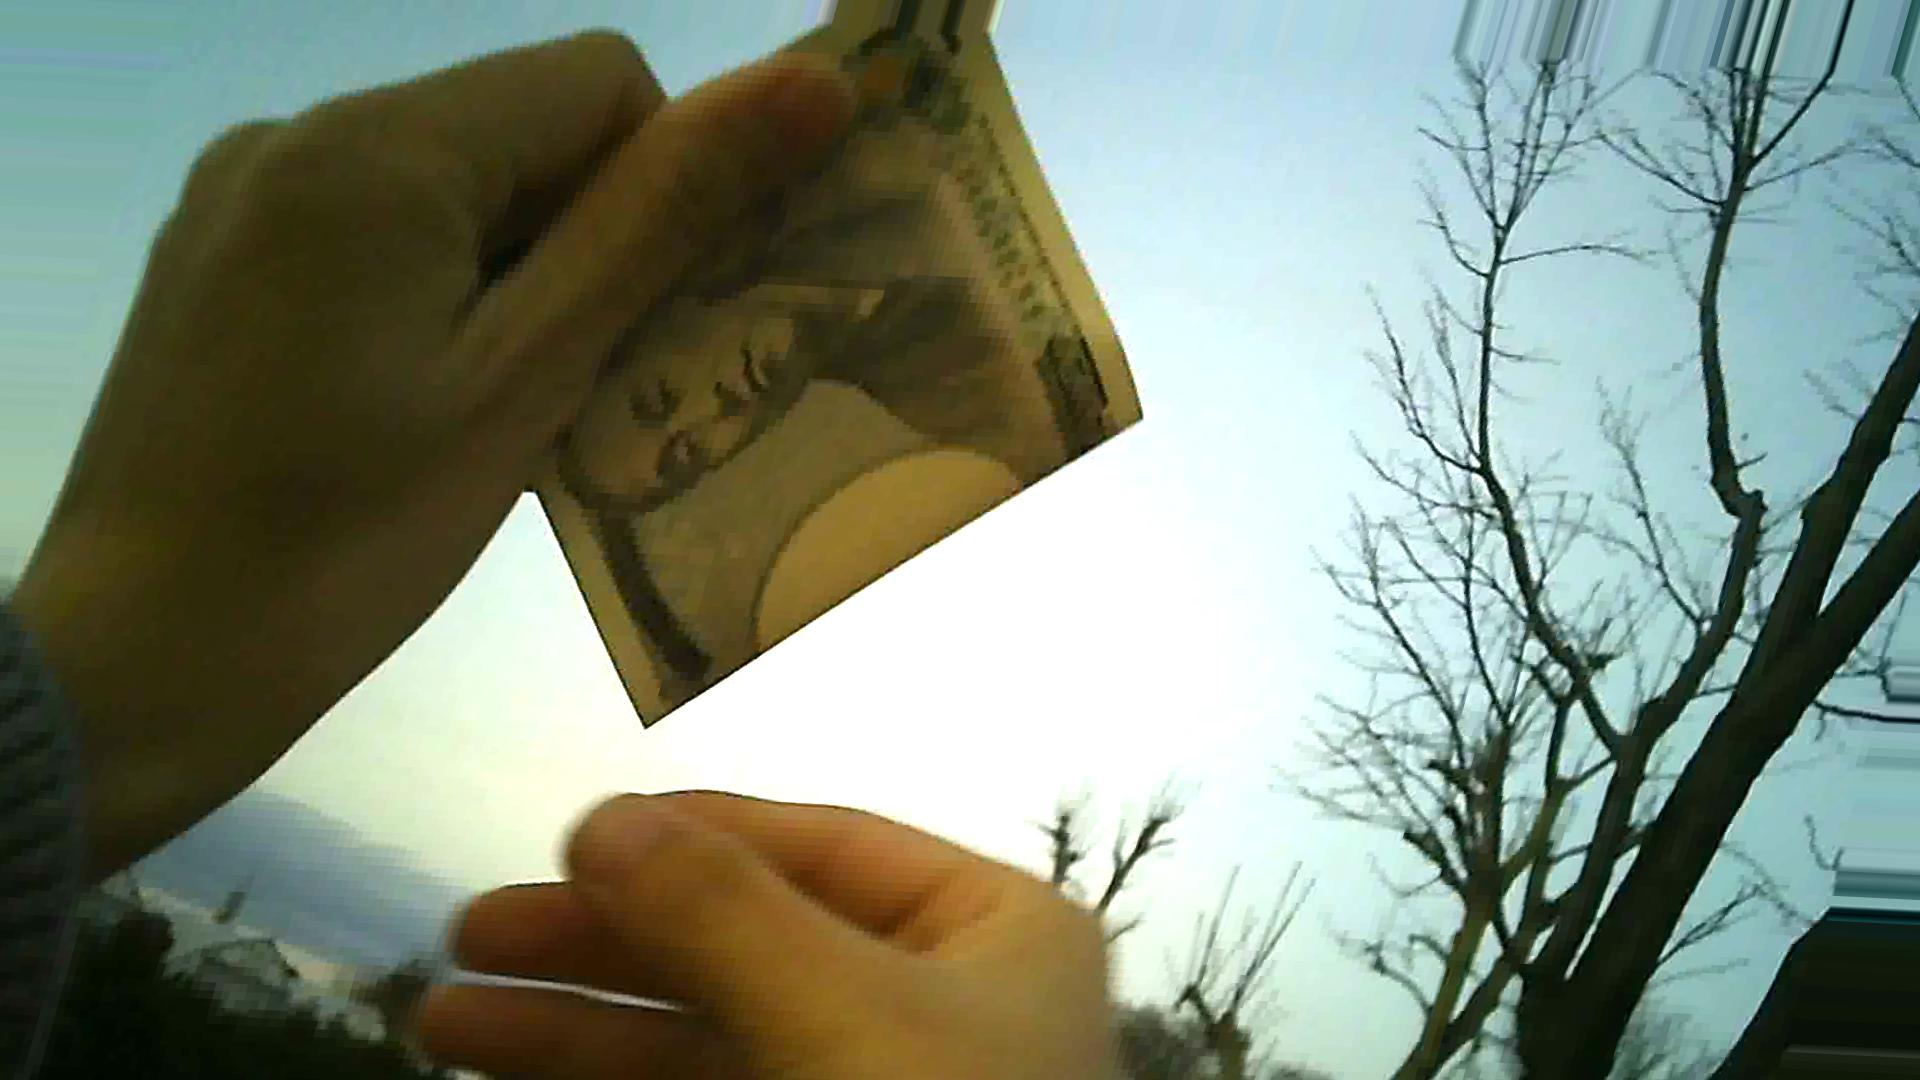10,000 Yen: (419, 36, 1149, 761)
